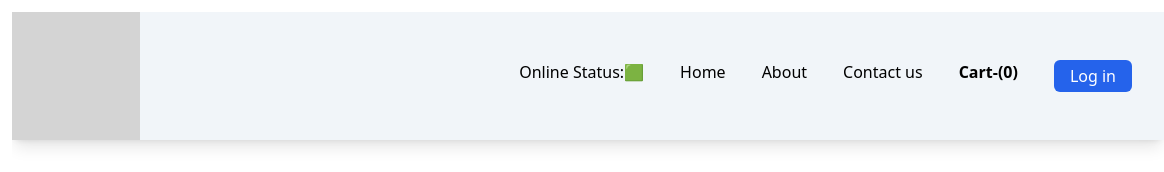
Test: should render cart with 0 items in header component
Click the button "Log in" at point(1093, 76), box top-left (1054, 60), bottom-right (1132, 92)
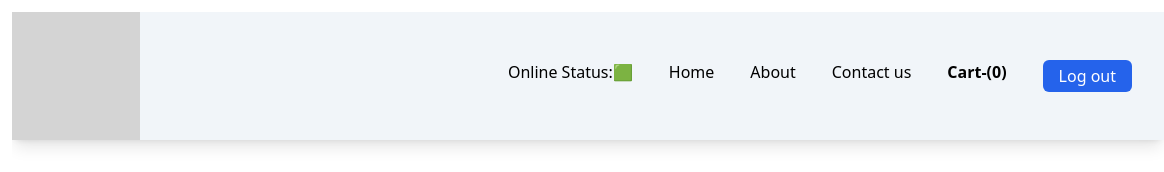
Expected: the button "Log out" is shown, top-left (1043, 60), bottom-right (1132, 92)
